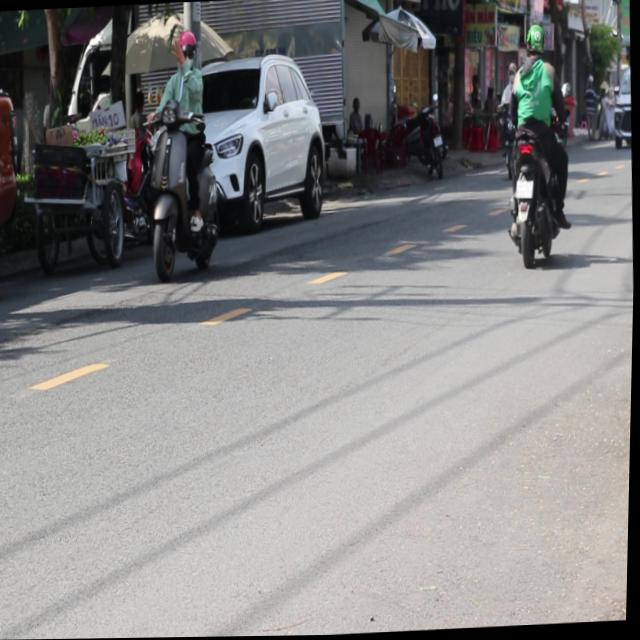helmet: (175, 31, 198, 72), (523, 24, 544, 59)
licenseplate: (142, 27, 229, 277), (497, 20, 577, 268)
nohelmet: (515, 179, 535, 200)
